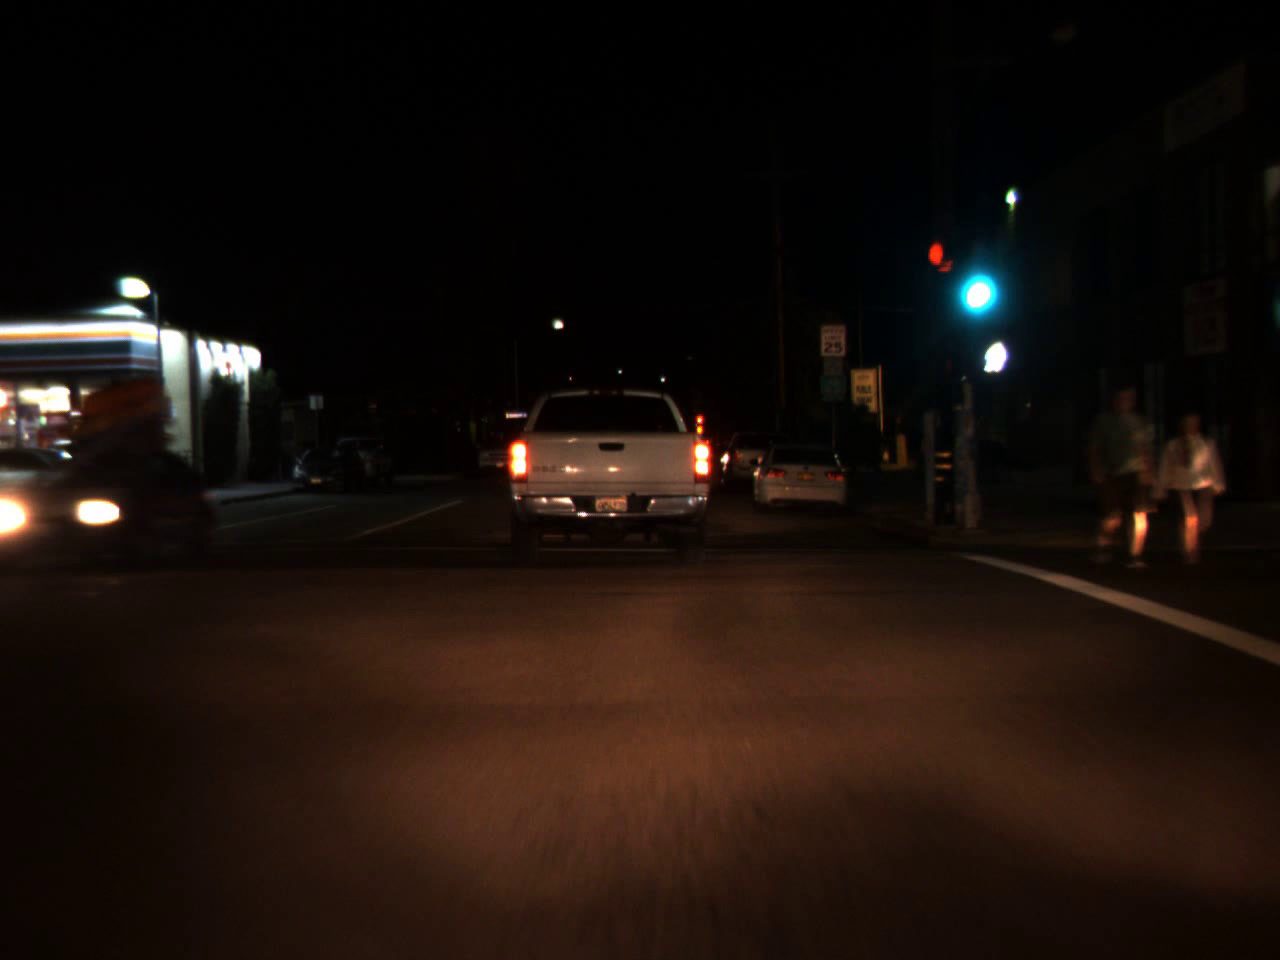go: (951, 236, 1001, 323)
stop: (695, 414, 703, 435)
